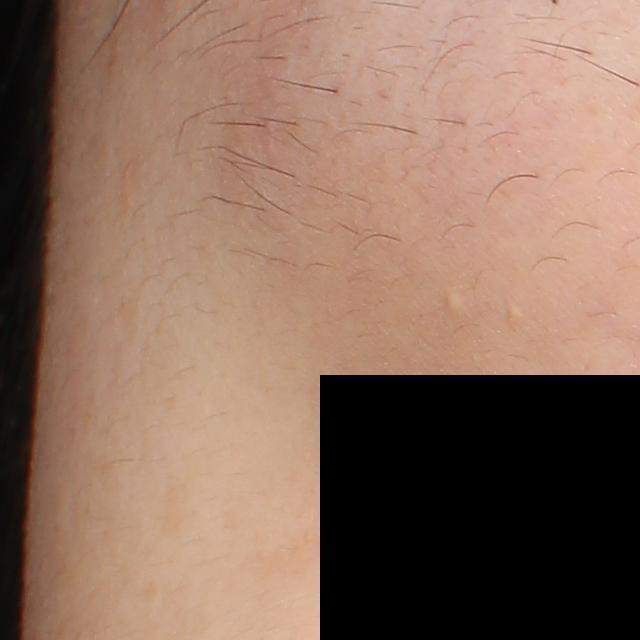melasma: (243, 530, 331, 587), (156, 484, 196, 537)
other: (444, 293, 464, 313)
